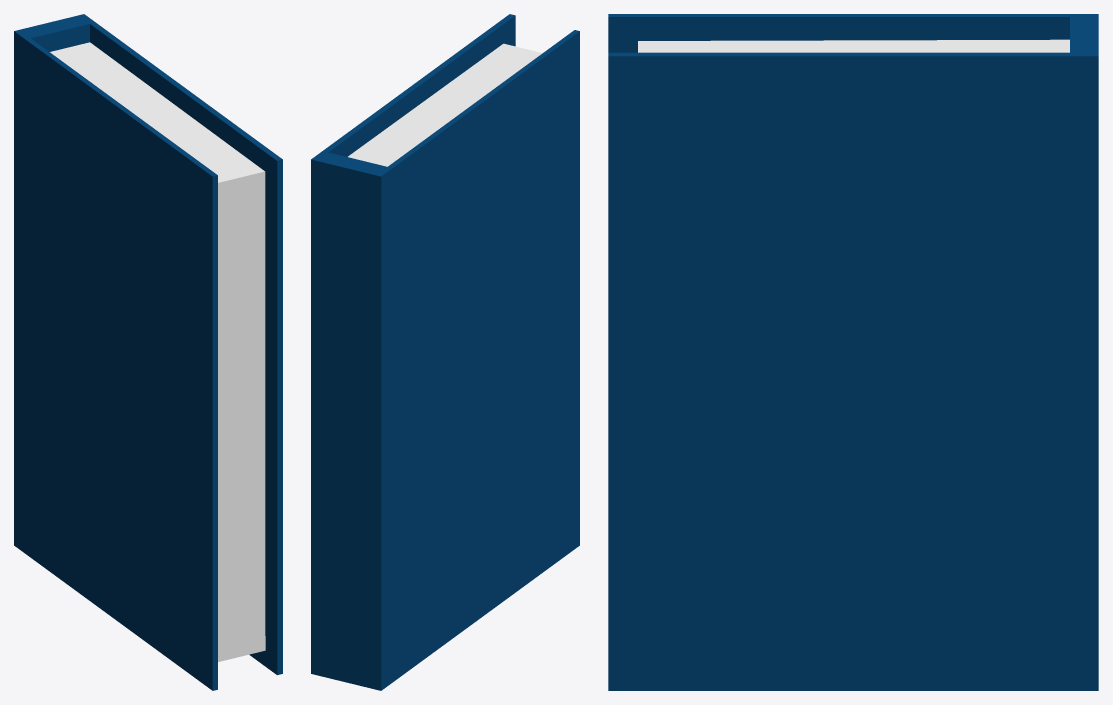
File: Book.fbx
The picture shows the model from 3 angles, left to right: view 1: azimuth 30°, elevation 25°; view 2: azimuth 150°, elevation 25°; view 3: azimuth 270°, elevation 25°; orthographic projection. The views are drawn at different scales.
Parts seen in each view (by area): view 1: Book; view 2: Book; view 3: Book.
Boxes of the visible parts, <box> form: Book: <box>14,14,282,690</box>; Book: <box>311,14,579,690</box>; Book: <box>608,14,1098,690</box>.
Size of the model in its own units: 0.5844 by 4.09 by 2.87.
